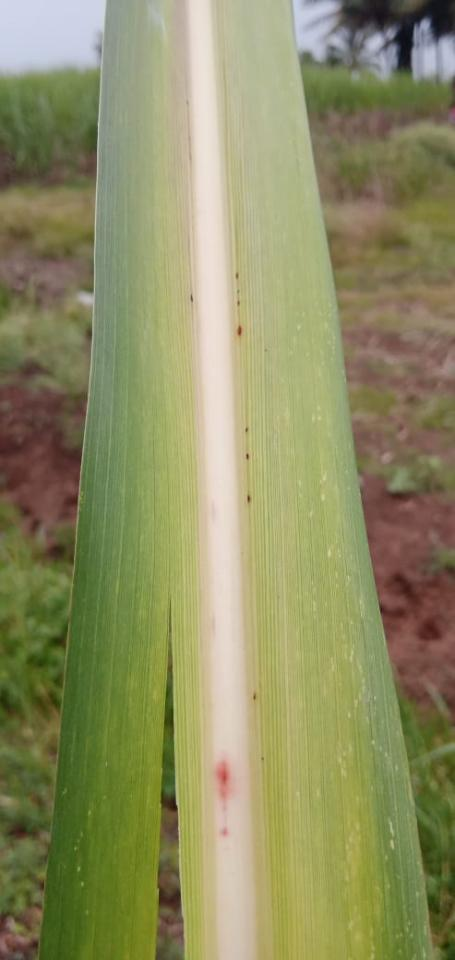RedRot: (210, 752, 236, 840)
Rust: (236, 322, 244, 339), (189, 291, 195, 304), (252, 691, 258, 703), (246, 494, 253, 504), (243, 427, 251, 435), (244, 453, 251, 461), (259, 755, 265, 763), (235, 272, 240, 281), (235, 287, 241, 294), (237, 299, 242, 307)
